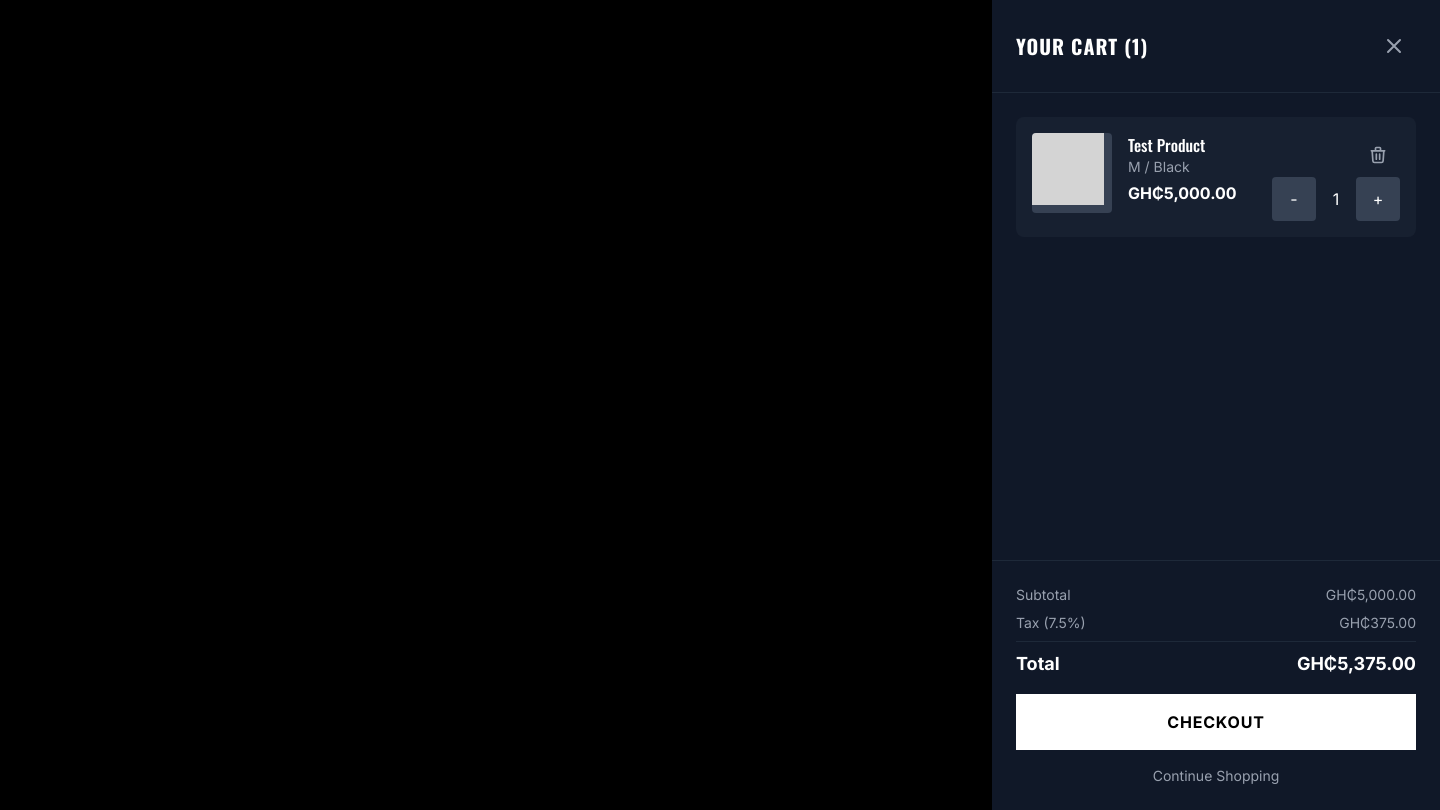
Homepage Components › CartDrawer › removes item when remove button is clicked
Click the button named "remove item": point(1378, 155) [1356,133,1400,177]
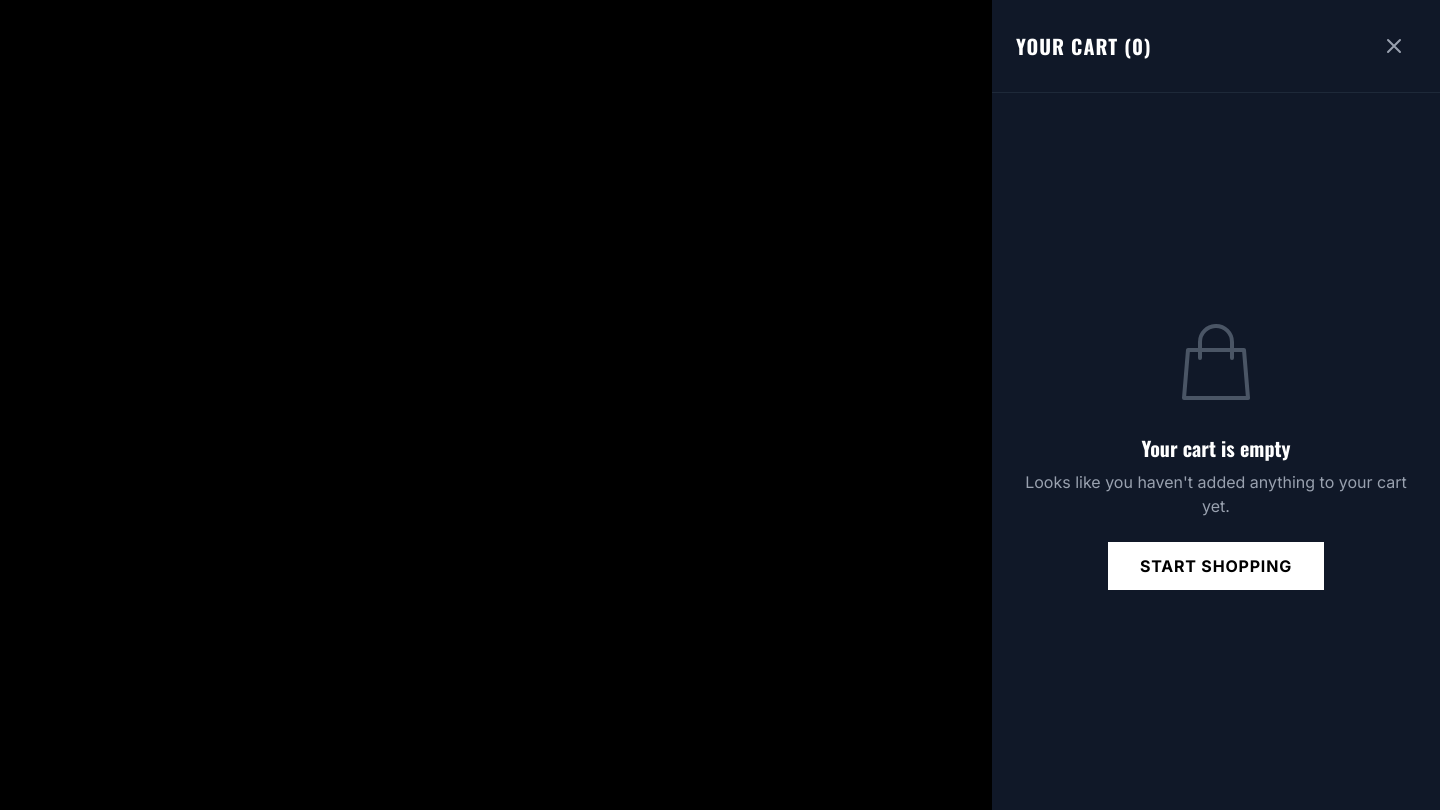
Now the heading "Your cart is empty" is shown, box [1142,434,1290,462]
